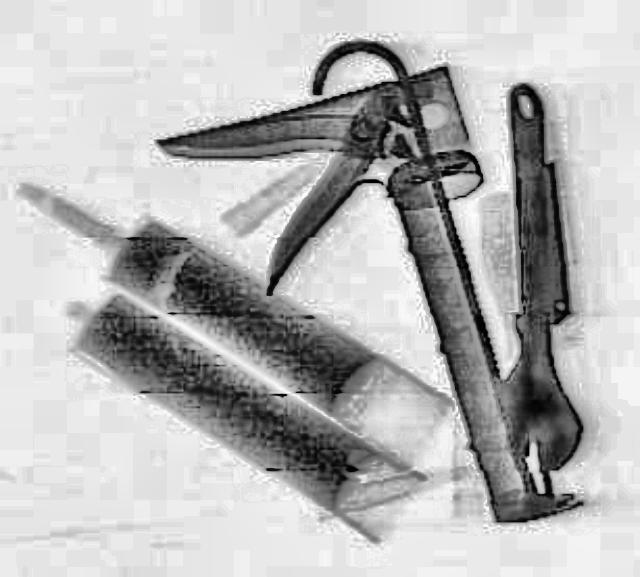Knife: (146, 61, 578, 567)
Wrench: (446, 80, 586, 472)
